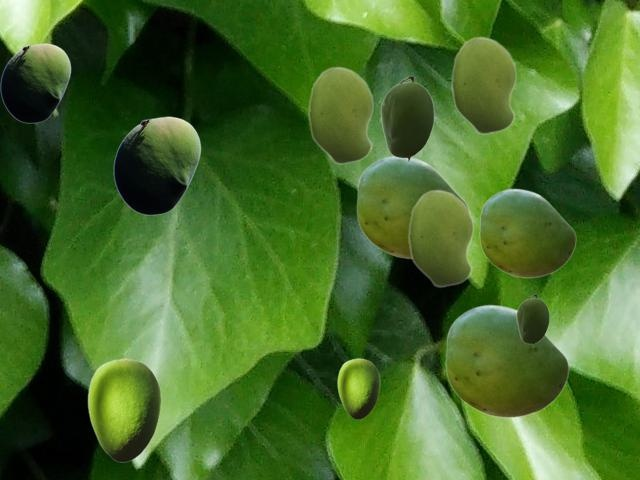green_mango: (445, 304, 568, 417), (356, 155, 468, 258), (479, 188, 575, 277), (113, 116, 200, 214), (87, 358, 160, 461), (408, 189, 473, 287), (308, 66, 373, 164), (451, 36, 516, 134), (0, 43, 70, 122), (380, 77, 433, 161), (337, 358, 379, 418), (516, 295, 548, 345)
